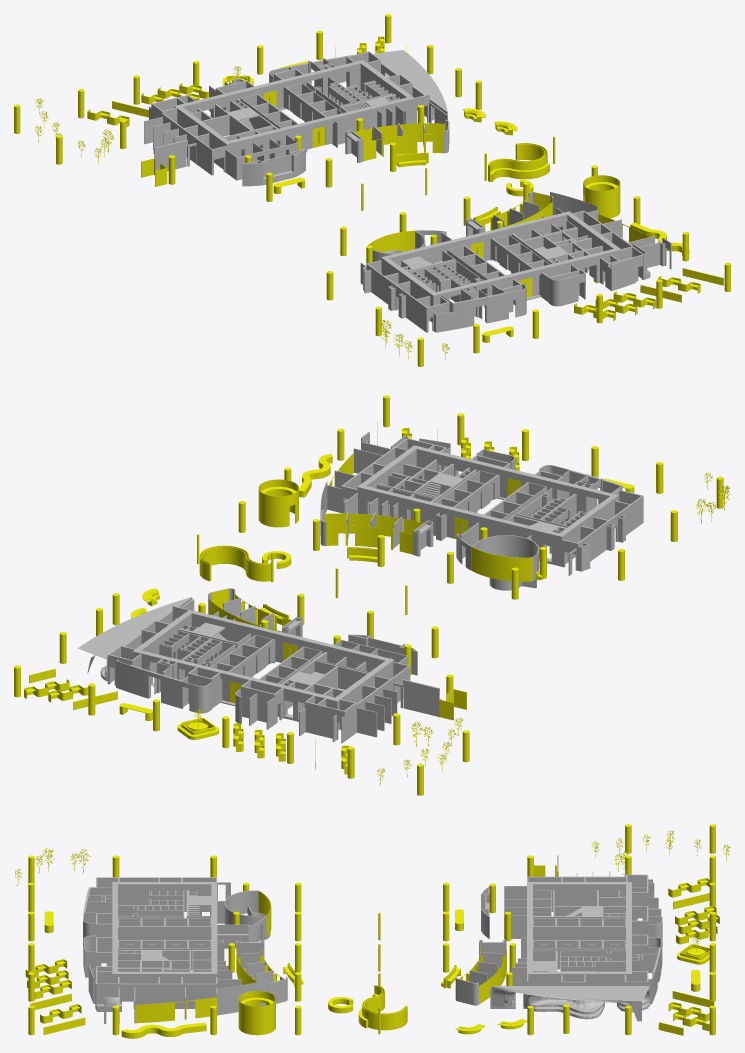
Rendered from sm_hana_building_12f_in.glb.
The picture shows the model from 3 angles, top to bottom: view 1: azimuth 30°, elevation 25°; view 2: azimuth 150°, elevation 25°; view 3: azimuth 270°, elevation 25°; orthographic projection. The views are drawn at different scales.
Visible parts, largest first — view 1: sm_hana_building_12f_in; view 2: sm_hana_building_12f_in; view 3: sm_hana_building_12f_in.
Boxes of the visible parts, x1,y1,x2,y2 form: sm_hana_building_12f_in: [14, 14, 730, 366]; sm_hana_building_12f_in: [14, 395, 729, 795]; sm_hana_building_12f_in: [15, 824, 730, 1038].
Bounding box in the file's own units: 60.17 × 7.41 × 96.83.
6 materials, 5 textured.
